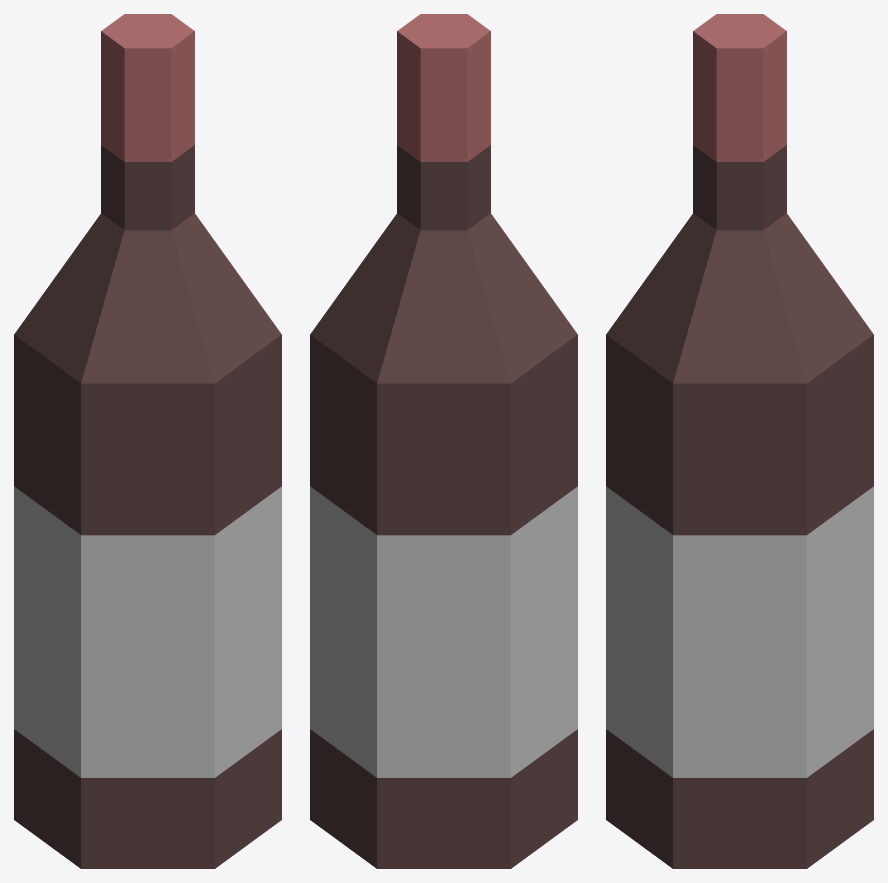
Rendered from BottleWine1.fbx.
3 renders of one model, left to right at view 1: azimuth 30°, elevation 25°; view 2: azimuth 150°, elevation 25°; view 3: azimuth 270°, elevation 25°, orthographic.
Visible parts, largest first — view 1: Cylinder; view 2: Cylinder; view 3: Cylinder.
Part boxes in pixels (bbox=[...]): Cylinder: bbox=[14, 14, 281, 868]; Cylinder: bbox=[310, 14, 577, 868]; Cylinder: bbox=[606, 14, 873, 868].
Bounding box in the file's own units: 0.1559 × 0.585 × 0.18.
